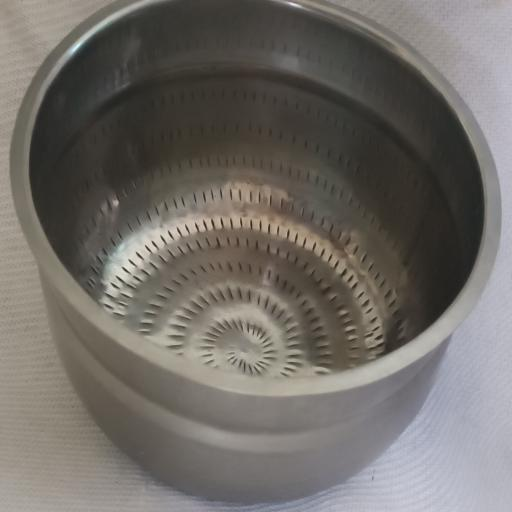vessel: (11, 0, 500, 502)
